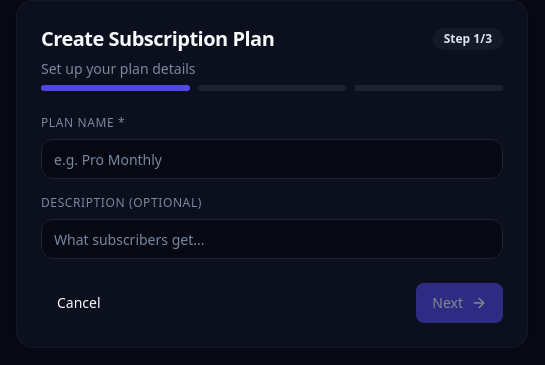
Test: CreatePlanForm › enables Next when plan name is filled
In the field with placeholder "e.g. Pro Monthly": point(272, 159) 41,139 -> 503,179, type "Test Plan"
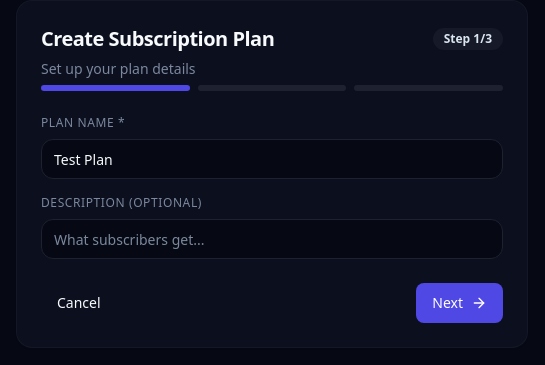
expect the button "Next" is enabled: met, box 416,283 -> 503,323
